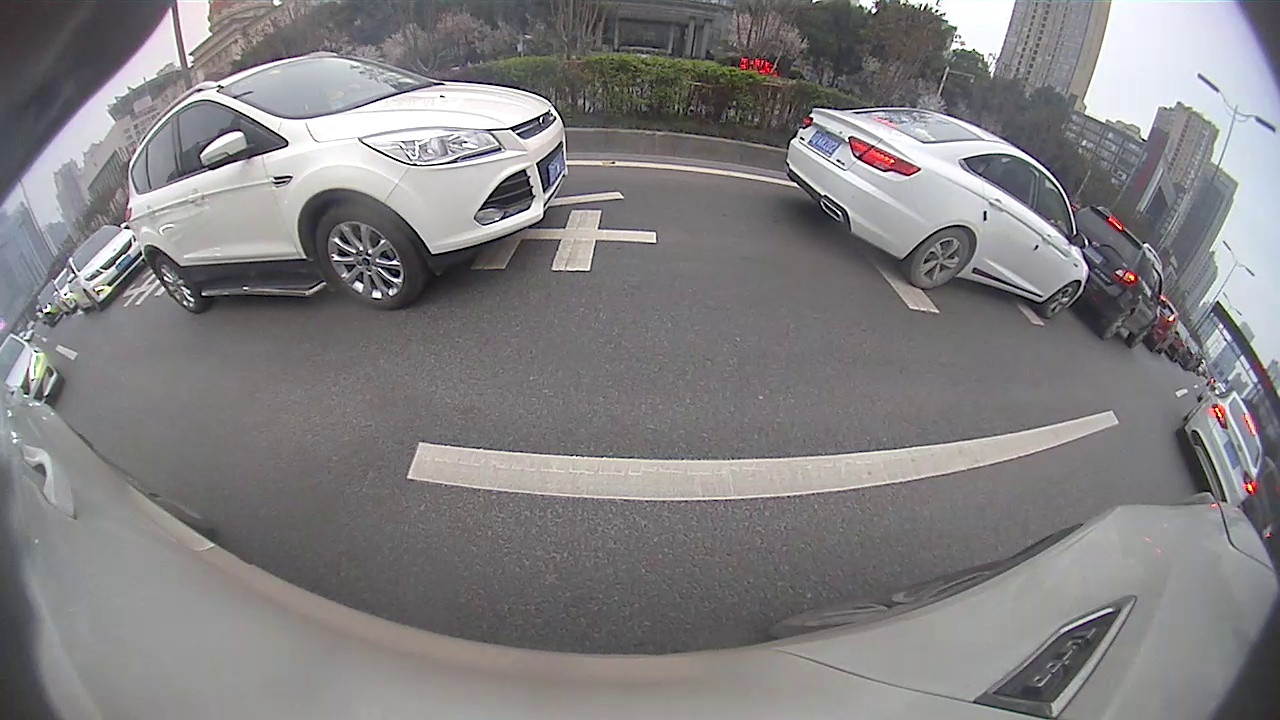car: (122, 50, 570, 314), (783, 105, 1090, 321), (1078, 204, 1164, 350), (1179, 391, 1267, 510), (63, 223, 146, 313), (1, 334, 64, 407)
front: (314, 204, 420, 311), (1040, 279, 1081, 321)
rear: (909, 228, 973, 289), (154, 252, 202, 312), (1103, 310, 1127, 344)
